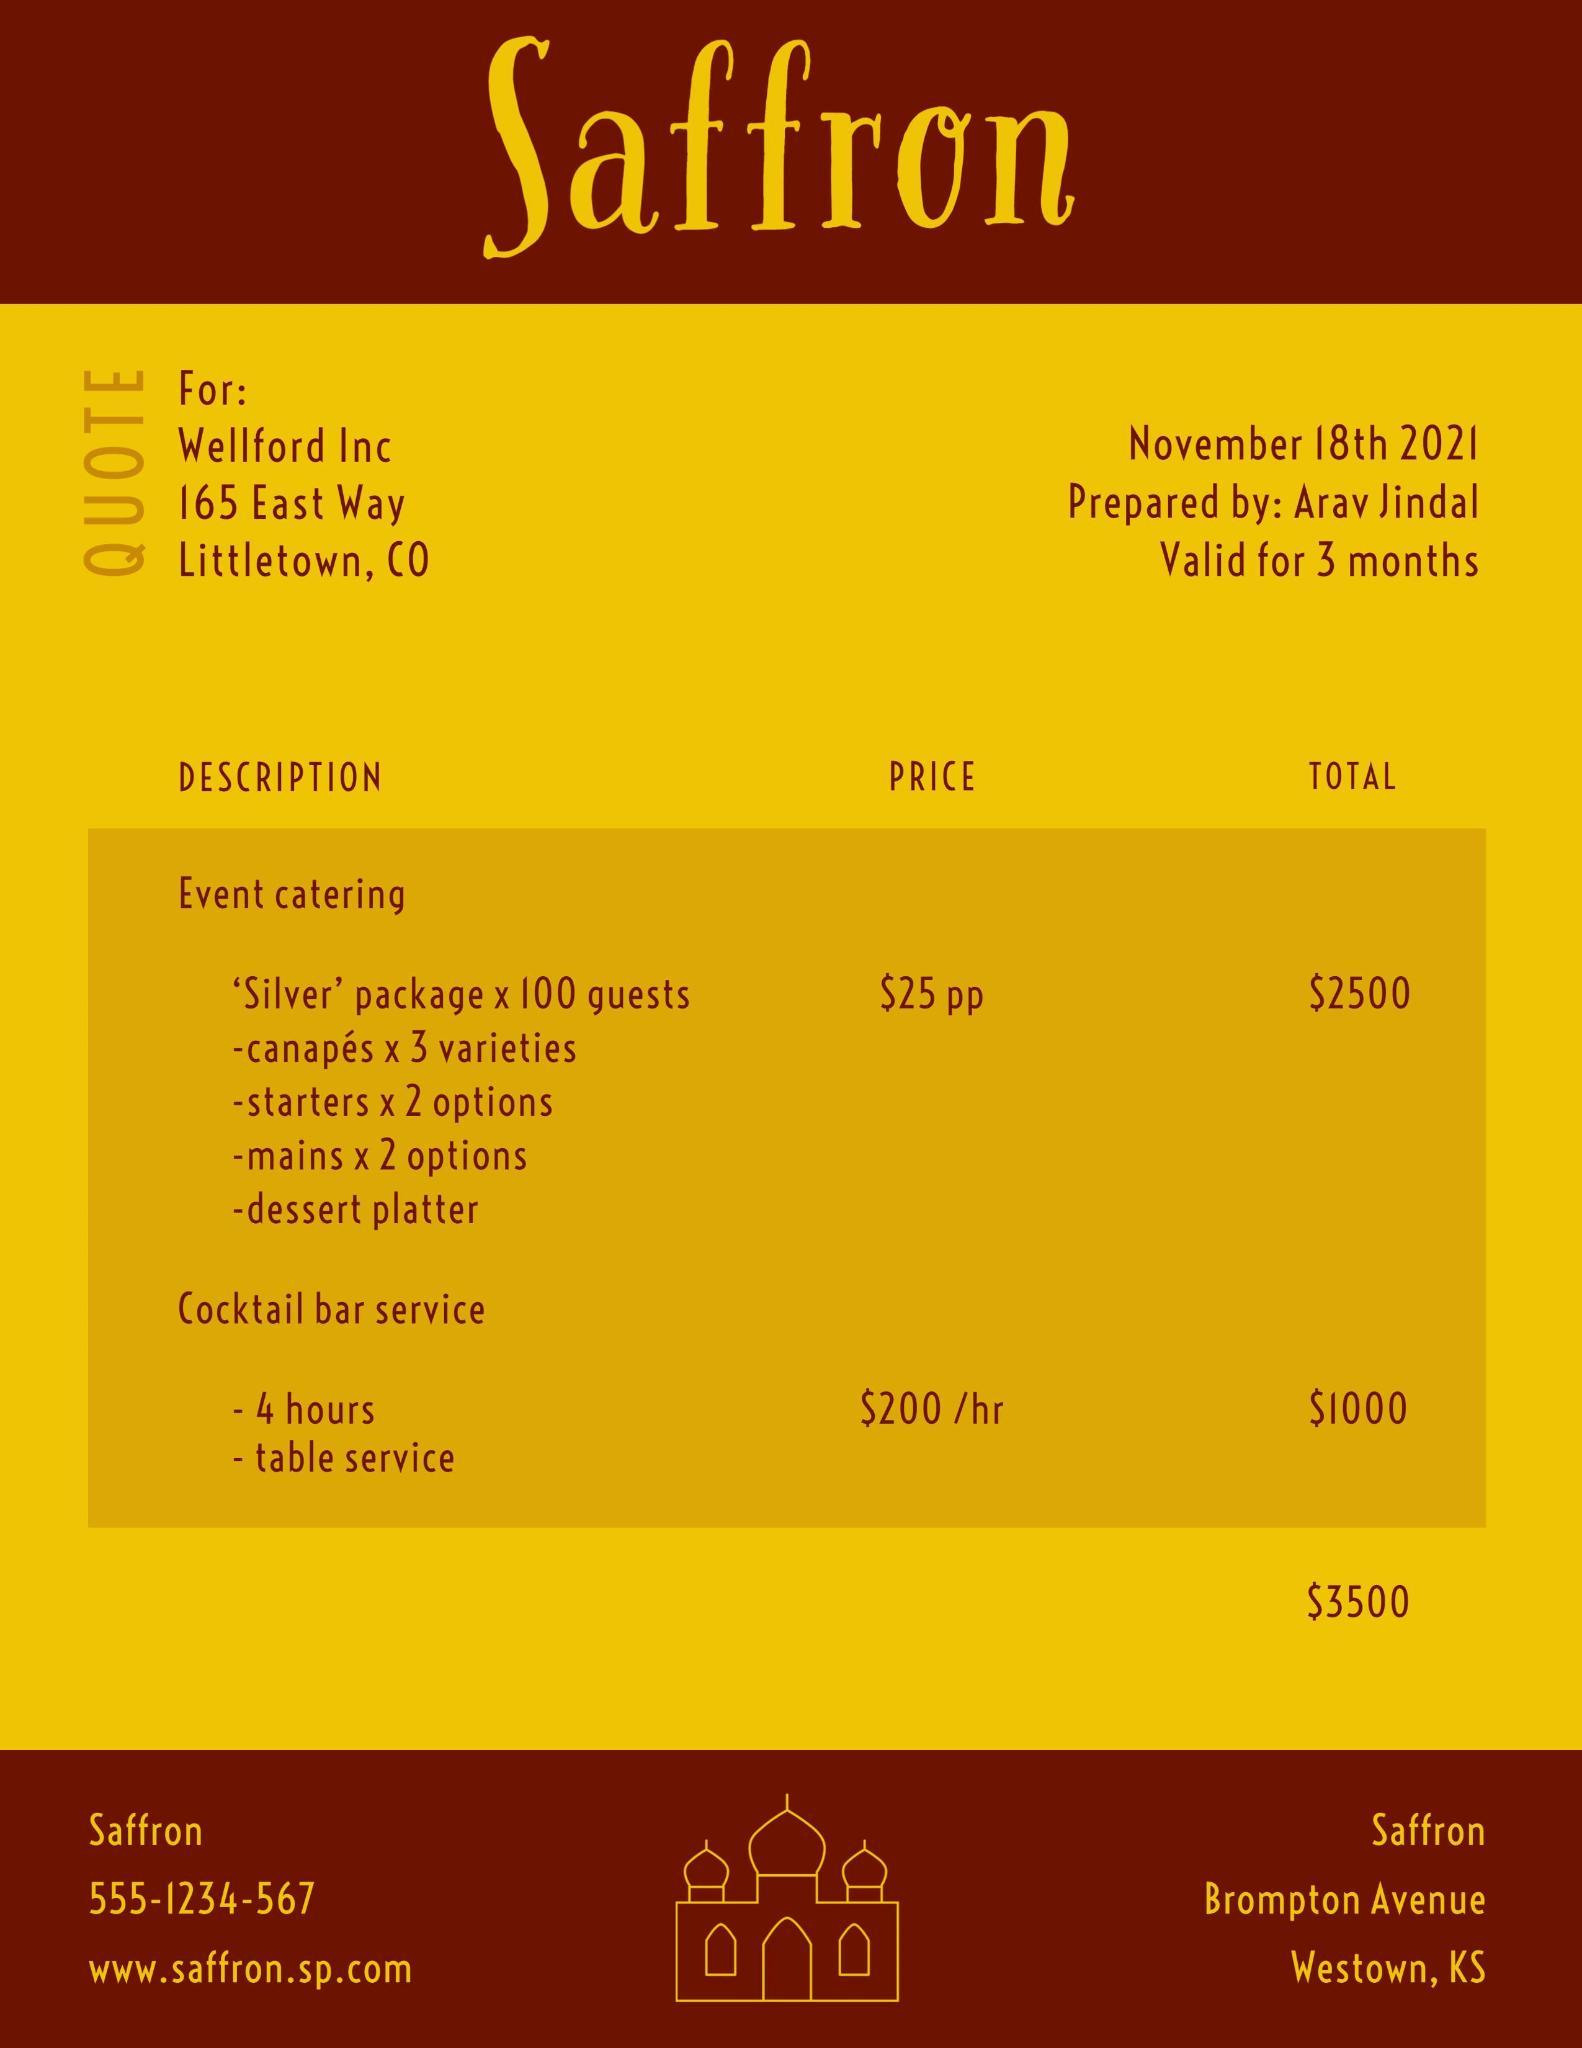ROI: (105, 706, 1451, 1510), (412, 8, 1122, 304), (1055, 364, 1529, 616), (65, 321, 490, 600), (22, 1761, 455, 2006), (1172, 1787, 1529, 2010), (1293, 1568, 1456, 1651)
